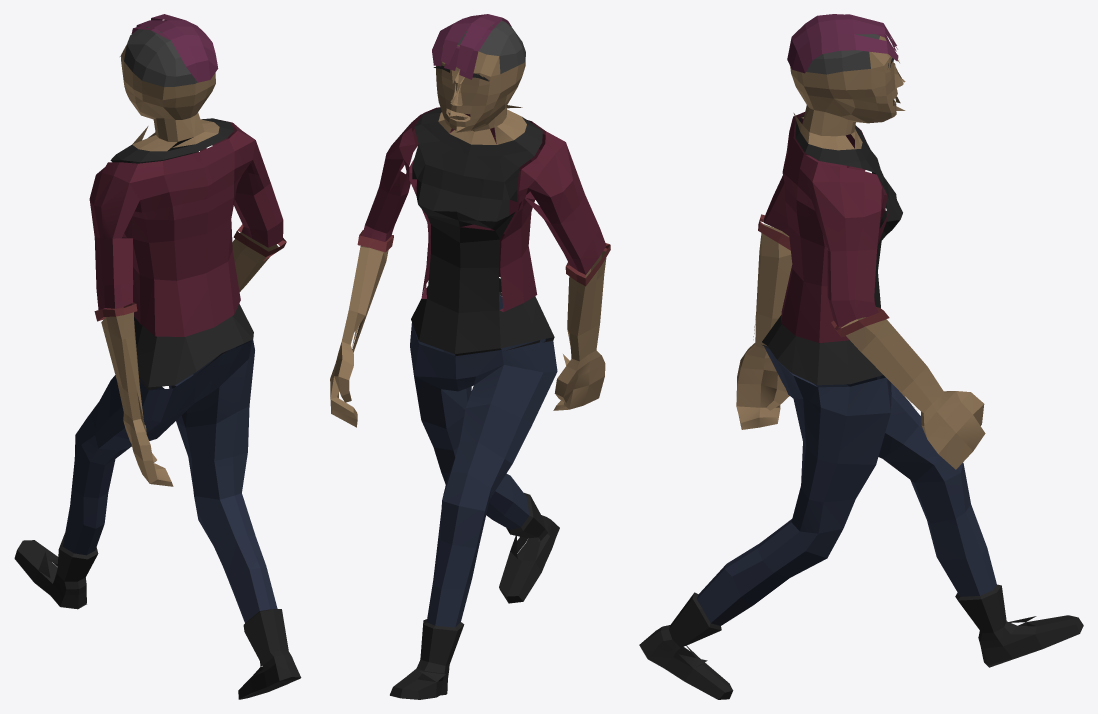
File: person_8_w1.fbx
The picture shows the model from 3 angles, left to right: view 1: azimuth 30°, elevation 25°; view 2: azimuth 150°, elevation 25°; view 3: azimuth 270°, elevation 25°; orthographic projection. The views are drawn at different scales.
Visible parts, largest first — view 1: Female; view 2: Female; view 3: Female.
Boxes of the visible parts, <box> form: Female: <box>14,14,301,699</box>; Female: <box>330,14,610,699</box>; Female: <box>639,14,1083,699</box>.
Bounding box in the file's own units: 0.3432 × 1 × 0.6025.
